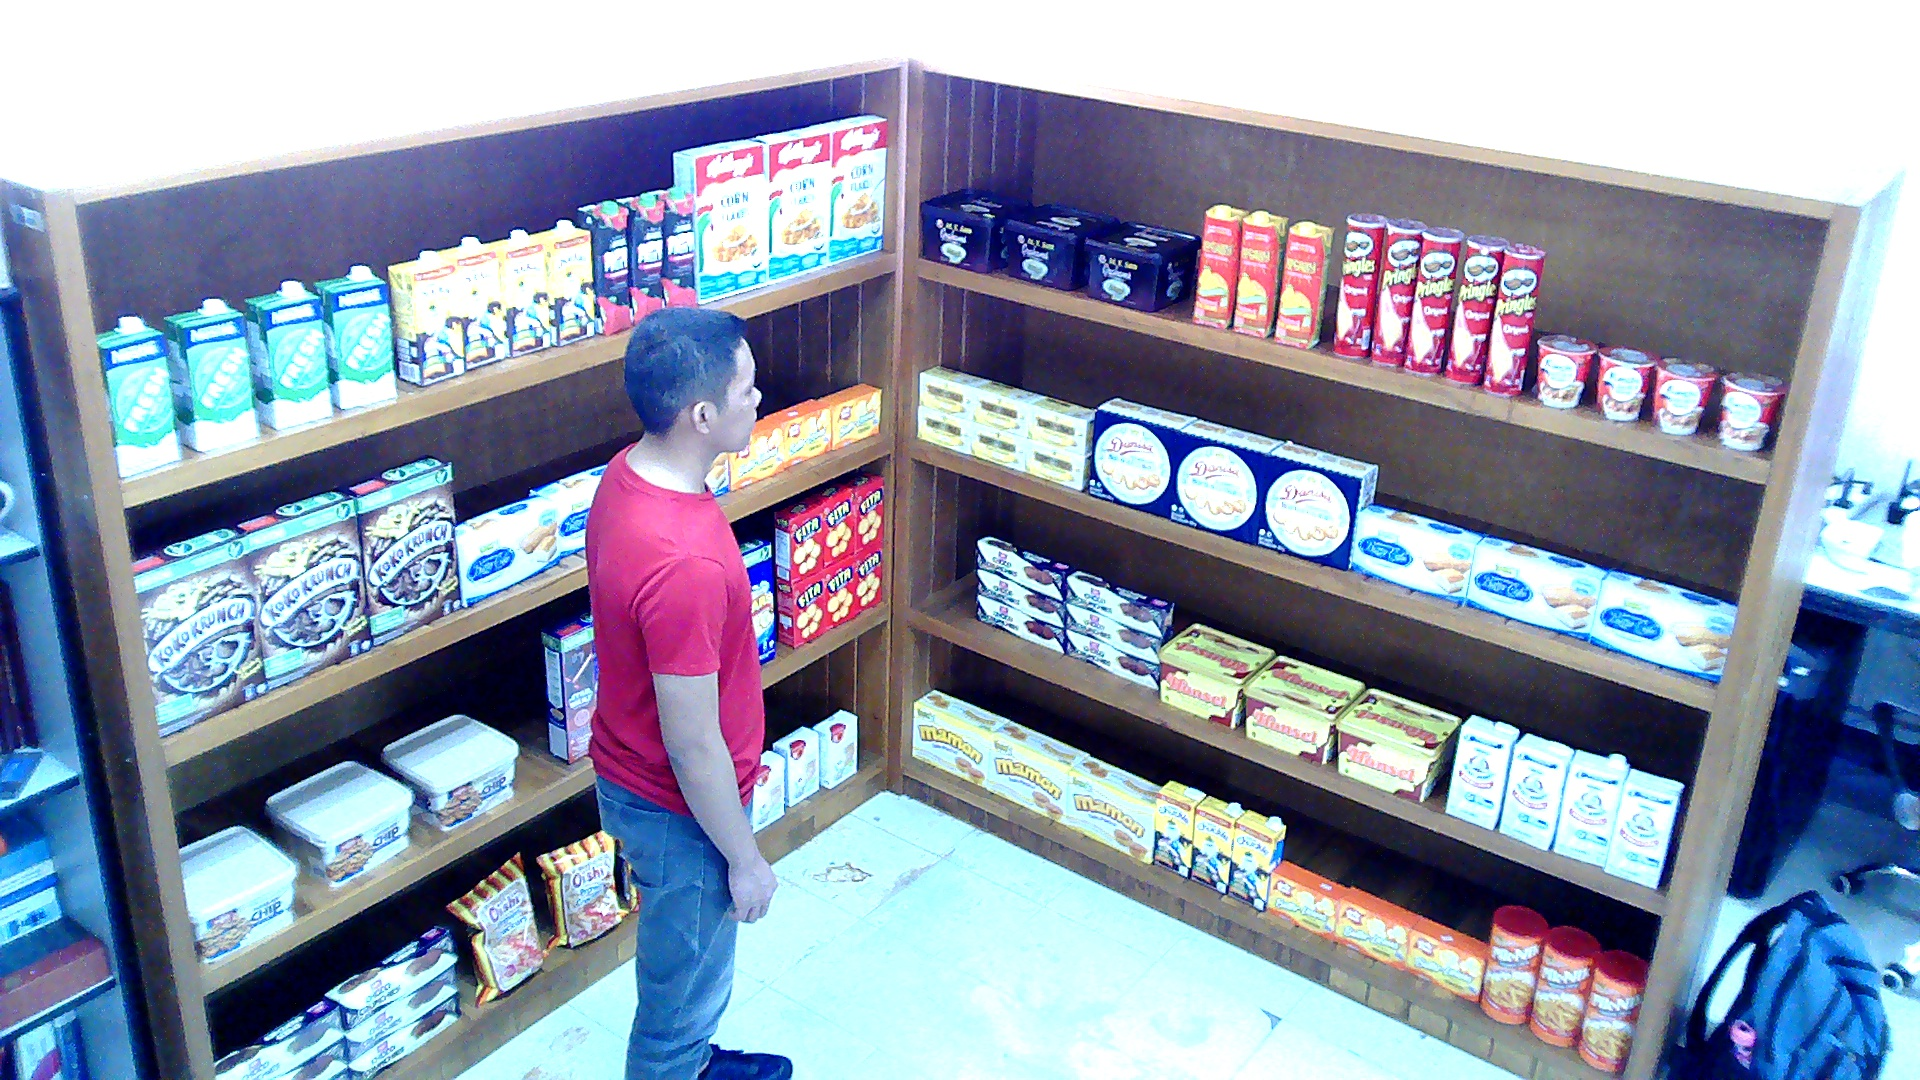Bear brand: (1605, 767, 1683, 889), (1497, 731, 1572, 848), (1553, 749, 1628, 866), (1443, 715, 1518, 828)
Buttercake: (1587, 569, 1737, 684), (1464, 535, 1608, 641), (1350, 504, 1482, 603), (456, 495, 558, 605), (531, 461, 606, 558), (704, 452, 725, 495)
Butterlicious: (1332, 884, 1422, 970), (1404, 916, 1488, 1004), (1266, 859, 1347, 938), (762, 398, 831, 466), (812, 382, 881, 447), (729, 418, 783, 490)
Camomille: (972, 378, 1044, 434), (1026, 395, 1092, 454), (918, 365, 987, 419), (1023, 439, 1089, 491), (915, 405, 969, 452), (969, 423, 1023, 470)
Choco Crunchies: (324, 923, 456, 1033), (345, 962, 456, 1061), (212, 996, 341, 1077), (1068, 569, 1173, 637), (975, 533, 1074, 601), (1065, 602, 1173, 661), (1064, 629, 1157, 690), (975, 569, 1065, 625), (975, 593, 1062, 652), (269, 1034, 344, 1077), (330, 1064, 348, 1078)
Chocolate Chips: (263, 761, 410, 887), (177, 825, 297, 962), (381, 713, 519, 832)
Chuckie: (387, 249, 465, 386), (438, 236, 504, 369), (528, 219, 594, 349), (483, 230, 549, 358), (1226, 809, 1283, 908), (1188, 794, 1245, 893), (1152, 778, 1206, 877)
Danisa: (1253, 441, 1376, 567), (1170, 416, 1284, 544), (1088, 396, 1193, 518)
Fita: (774, 495, 822, 585), (777, 569, 825, 648), (810, 481, 855, 564), (836, 470, 881, 549), (825, 554, 855, 630), (855, 540, 882, 612)
Fresh Milk: (162, 297, 258, 452), (93, 315, 180, 479), (243, 278, 333, 429), (312, 263, 396, 409)
Grahams: (1082, 220, 1199, 310), (1002, 202, 1119, 288), (921, 187, 1035, 273)
Hansel: (1335, 686, 1461, 801), (1241, 655, 1364, 765), (1155, 623, 1275, 729)
Head: (608, 288, 773, 468)
Honey Stars: (540, 605, 597, 765), (737, 533, 776, 666)
Kellogg Corn Flakes: (672, 134, 768, 303), (753, 126, 831, 283), (816, 112, 885, 263)
Kimchi Noodles: (1719, 369, 1785, 450), (1653, 355, 1719, 434), (1596, 345, 1656, 421), (1536, 333, 1596, 407)
Koko Krunch: (129, 526, 264, 737), (228, 491, 369, 691), (330, 452, 462, 648)
Locally Mango: (1272, 219, 1332, 349), (1190, 202, 1247, 328), (1230, 209, 1287, 337)
Mamon: (987, 720, 1086, 823), (1064, 754, 1157, 864), (912, 688, 1008, 787)
Oishi Prawn: (441, 848, 549, 1008), (534, 830, 627, 949)
Pik-nik: (1530, 925, 1602, 1047), (1478, 902, 1547, 1026), (1578, 949, 1647, 1071)
Pringles: (1481, 240, 1544, 395), (1443, 234, 1506, 382), (1404, 225, 1464, 373), (1332, 212, 1386, 358), (1371, 216, 1422, 364)
Super Fruits: (576, 198, 633, 335), (615, 191, 663, 326), (651, 184, 699, 306)
iHop: (770, 724, 815, 805), (813, 708, 855, 789), (753, 749, 783, 830)
